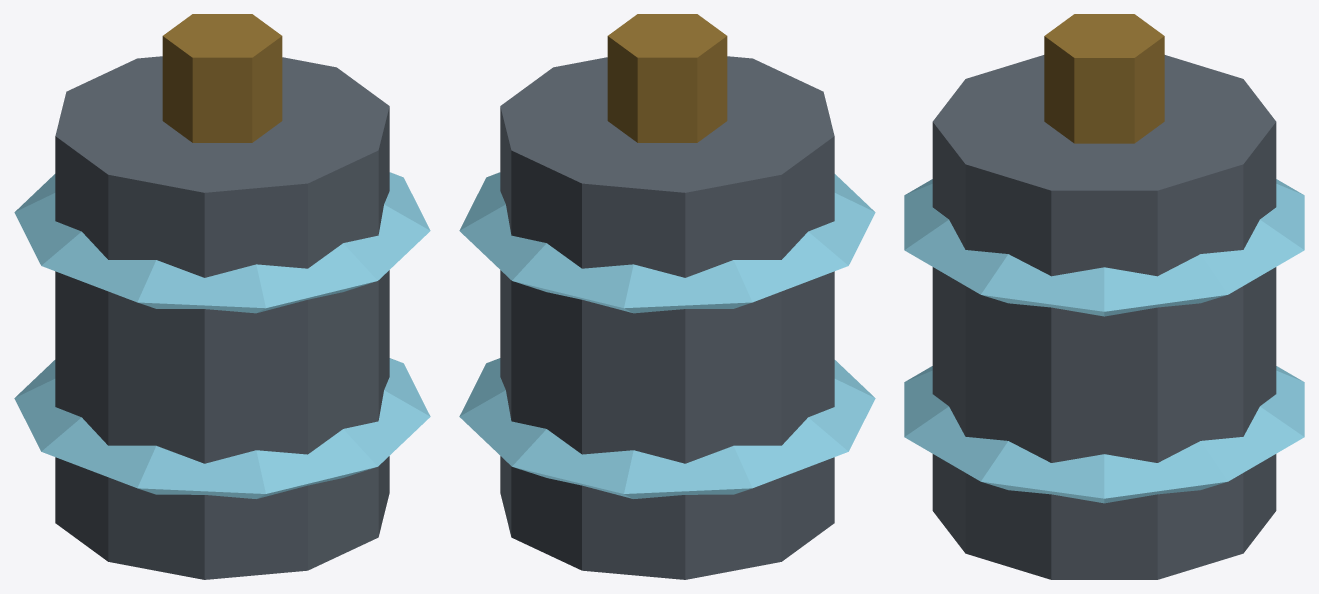
The model's file is cell-cryo.glb.
The picture shows the model from 3 angles, left to right: view 1: azimuth 30°, elevation 25°; view 2: azimuth 150°, elevation 25°; view 3: azimuth 270°, elevation 25°; orthographic projection.
Visible parts, largest first — view 1: m; view 2: m; view 3: m.
Boxes of the visible parts, x1,y1,x2,y2 form: m: [14, 14, 430, 579]; m: [459, 14, 875, 579]; m: [904, 14, 1304, 579].
Size of the model in its own units: 0.0482 by 0.06 by 0.0458.
